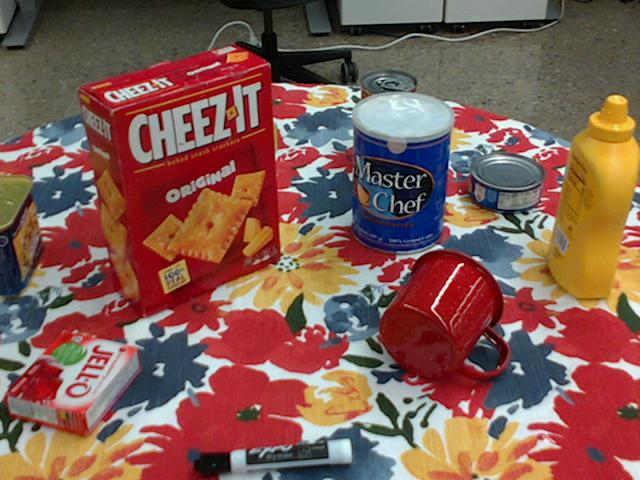cracker_box: (76, 45, 276, 314)
gelatin_box: (8, 330, 141, 435)
large_marker: (194, 438, 353, 475)
master_chef_can: (352, 92, 454, 256)
mug: (380, 248, 508, 379)
mustard_bottle: (544, 97, 637, 299)
potted_meat_can: (0, 173, 41, 297)
sugar_box: (113, 98, 276, 188)
tomato_soup_can: (359, 71, 416, 170)
tuna_fish_can: (468, 155, 545, 215)
